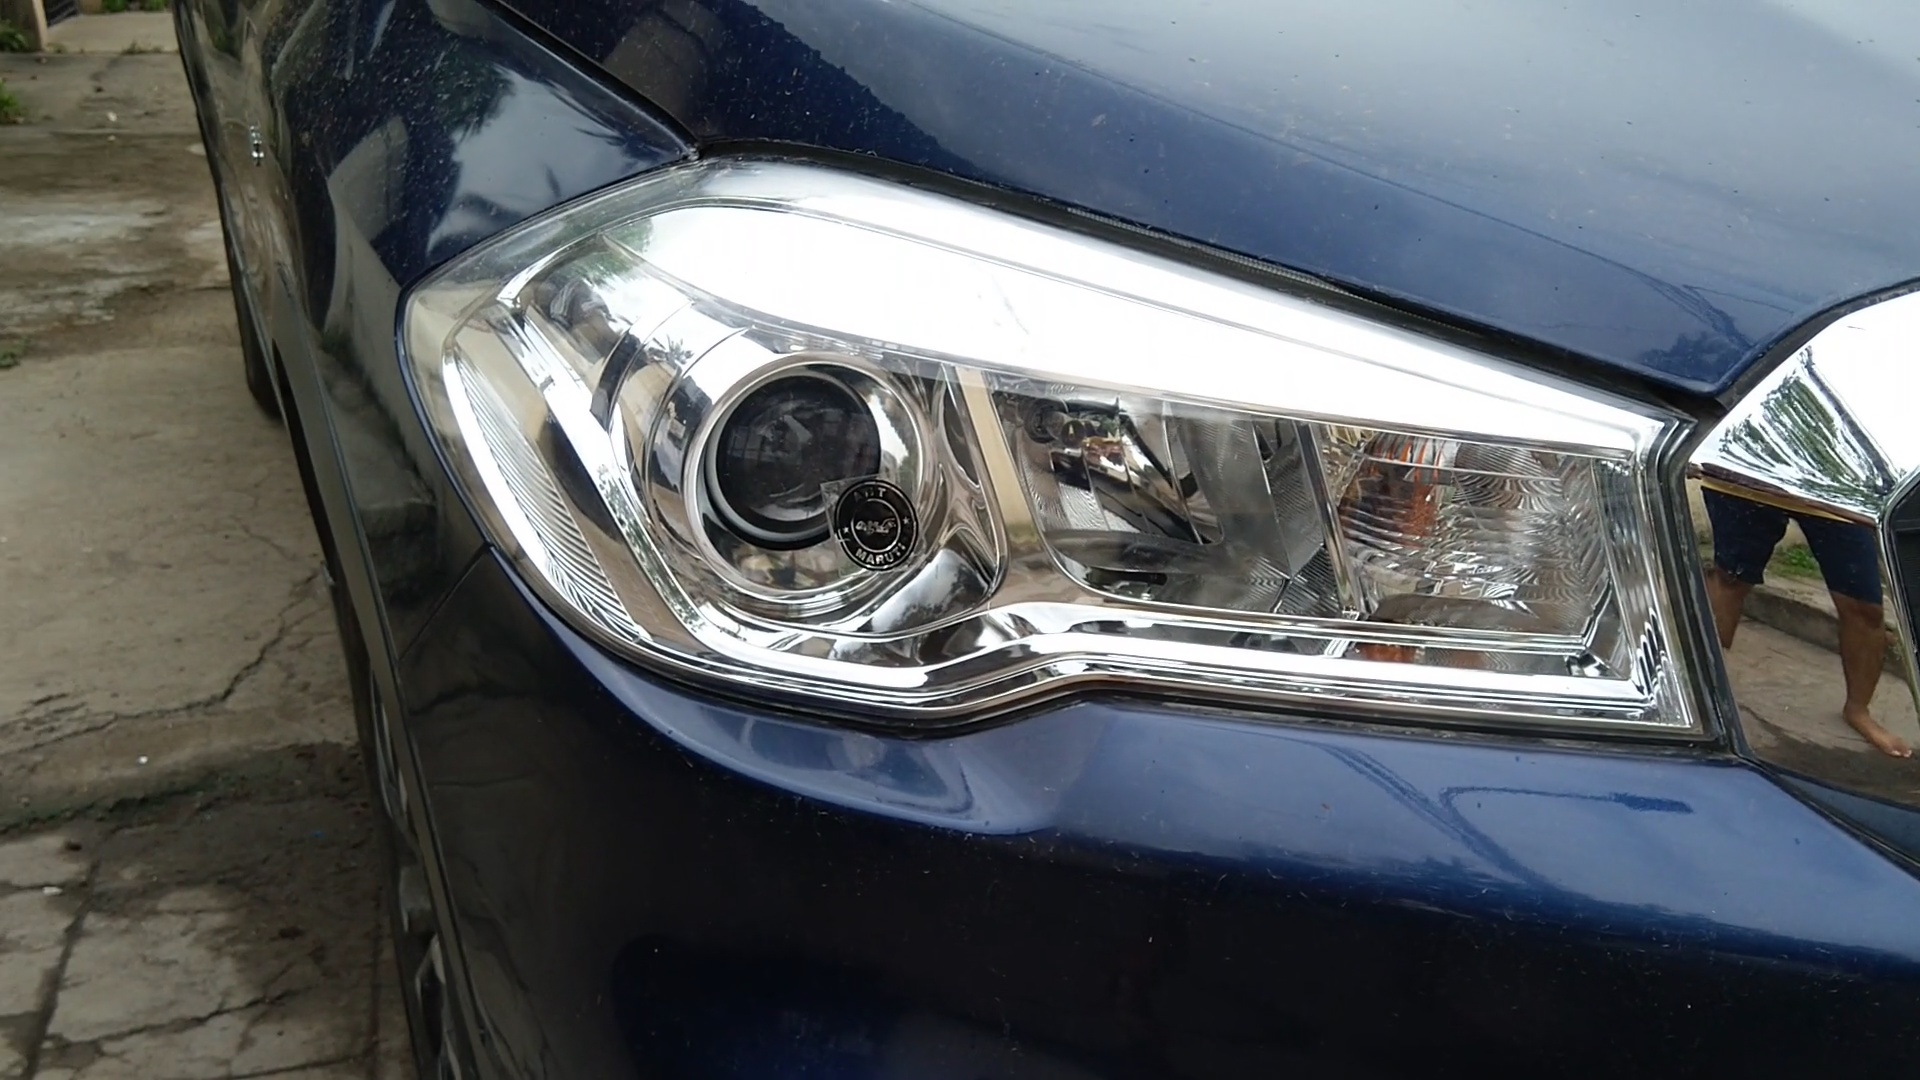headlamp: (389, 131, 1721, 802)
